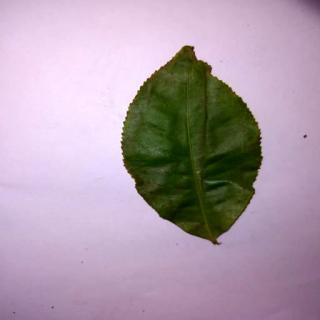Bird Eye Spot: (123, 45, 264, 248)
